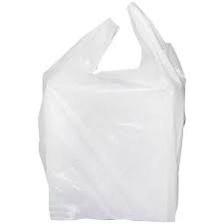plastic_bag: (34, 0, 192, 224)
